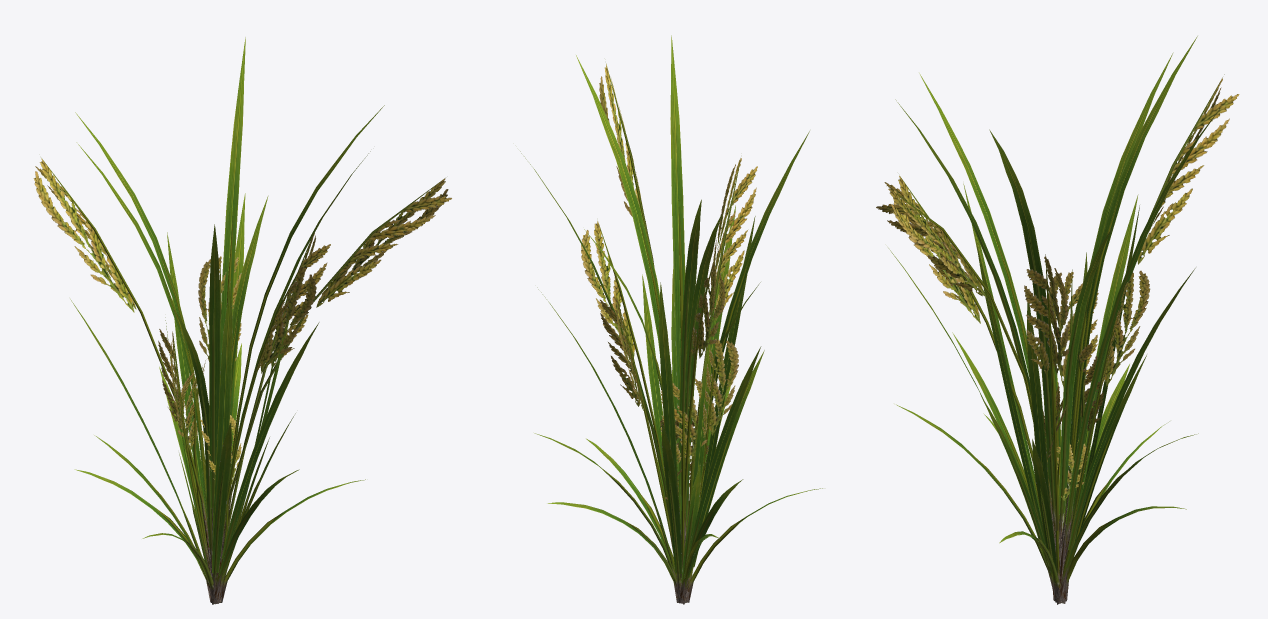
The model's file is Reworked RicePlant_LOD1.fbx.
3 views of the same model, side by side, from view 1: azimuth 30°, elevation 25°; view 2: azimuth 150°, elevation 25°; view 3: azimuth 270°, elevation 25° (orthographic). The views are drawn at different scales.
Parts seen in each view (by area): view 1: riceleaf_1, ricenose_2, stem 02_0; view 2: riceleaf_1, ricenose_2, stem 02_0; view 3: riceleaf_1, ricenose_2, stem 02_0.
Boxes of the visible parts, x1=… form: riceleaf_1: x1=70, y1=37, x2=384, y2=576; ricenose_2: x1=33, y1=158, x2=451, y2=505; stem 02_0: x1=42, y1=159, x2=444, y2=604; riceleaf_1: x1=520, y1=35, x2=822, y2=582; ricenose_2: x1=581, y1=64, x2=757, y2=499; stem 02_0: x1=593, y1=64, x2=748, y2=604; riceleaf_1: x1=888, y1=36, x2=1219, y2=578; ricenose_2: x1=876, y1=78, x2=1239, y2=500; stem 02_0: x1=888, y1=74, x2=1224, y2=604.
Size of the model in its own units: 75.35 by 122 by 75.92.
3 materials, 3 textured.
